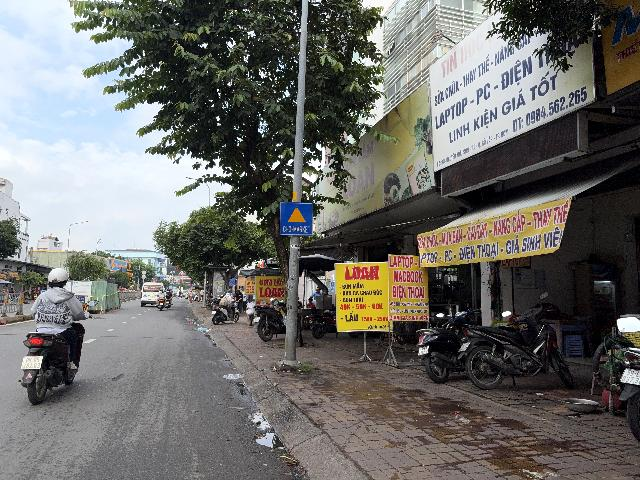khu-vuc-cho-phia-truoc: (280, 202, 313, 236)
